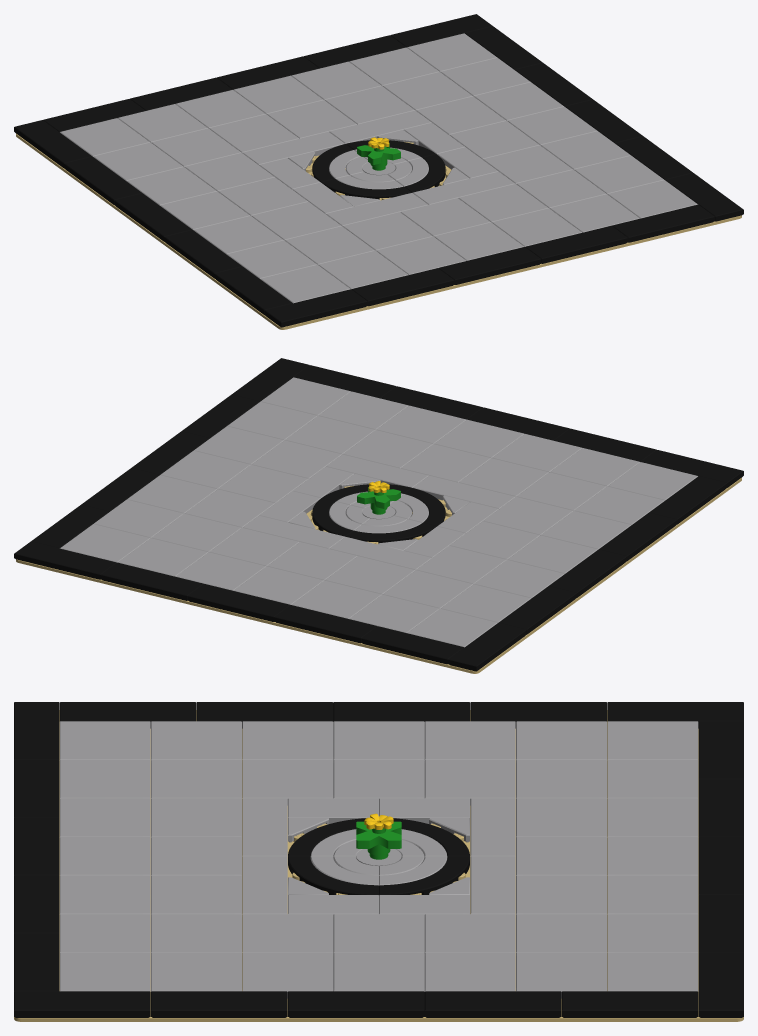
Rendered from testPlatform.fbx.
The picture shows the model from 3 angles, top to bottom: view 1: azimuth 30°, elevation 25°; view 2: azimuth 150°, elevation 25°; view 3: azimuth 270°, elevation 25°; orthographic projection. The views are drawn at different scales.
Parts seen in each view (by area): view 1: Ground, Flower; view 2: Ground, Flower; view 3: Ground, Flower.
Part boxes in pixels (<box>): Ground: <box>14,14,743,329</box>; Flower: <box>357,137,400,170</box>; Ground: <box>14,358,743,673</box>; Flower: <box>357,481,400,514</box>; Ground: <box>14,702,743,1021</box>; Flower: <box>356,813,401,859</box>.
Bounding box in the file's own units: 25592 × 1895 × 25592.
